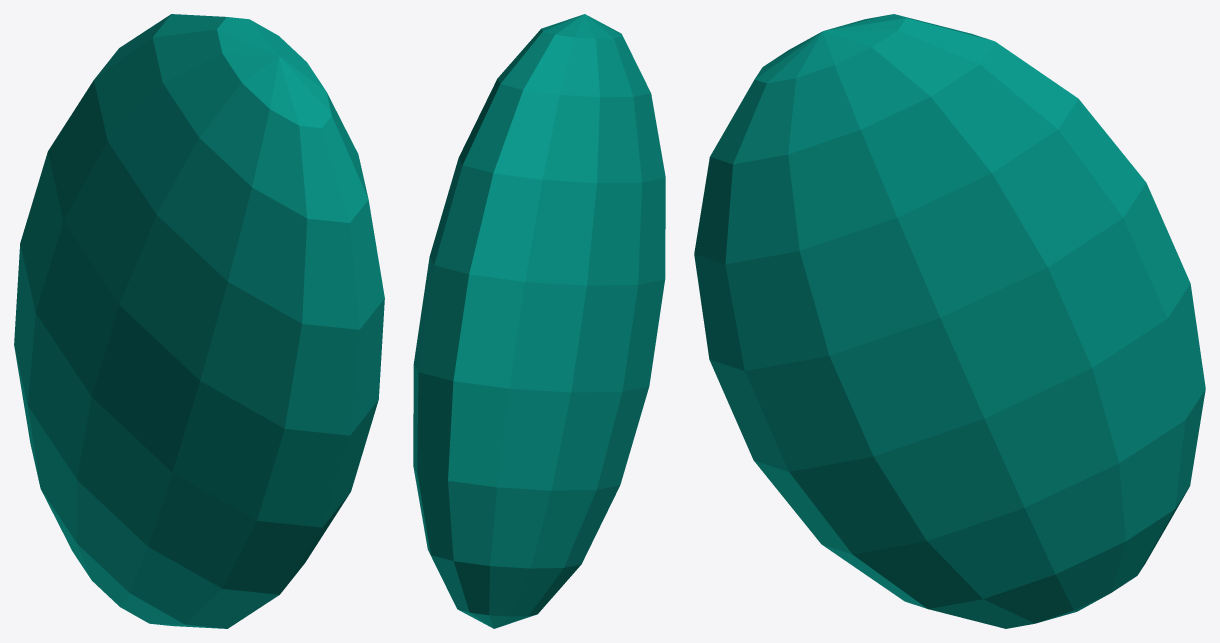
Rendered from n5_n5_group350797390_lev5.001.glb.
The picture shows the model from 3 angles, left to right: view 1: azimuth 30°, elevation 25°; view 2: azimuth 150°, elevation 25°; view 3: azimuth 270°, elevation 25°; orthographic projection. The views are drawn at different scales.
Visible parts, largest first — view 1: n5_n5_group350797390_lev5.001; view 2: n5_n5_group350797390_lev5.001; view 3: n5_n5_group350797390_lev5.001.
Boxes of the visible parts, x1,y1,x2,y2 form: n5_n5_group350797390_lev5.001: (14, 14, 384, 628); n5_n5_group350797390_lev5.001: (413, 14, 665, 628); n5_n5_group350797390_lev5.001: (694, 14, 1205, 628).
Bounding box in the file's own units: 1.63 × 4.85 × 3.68.
